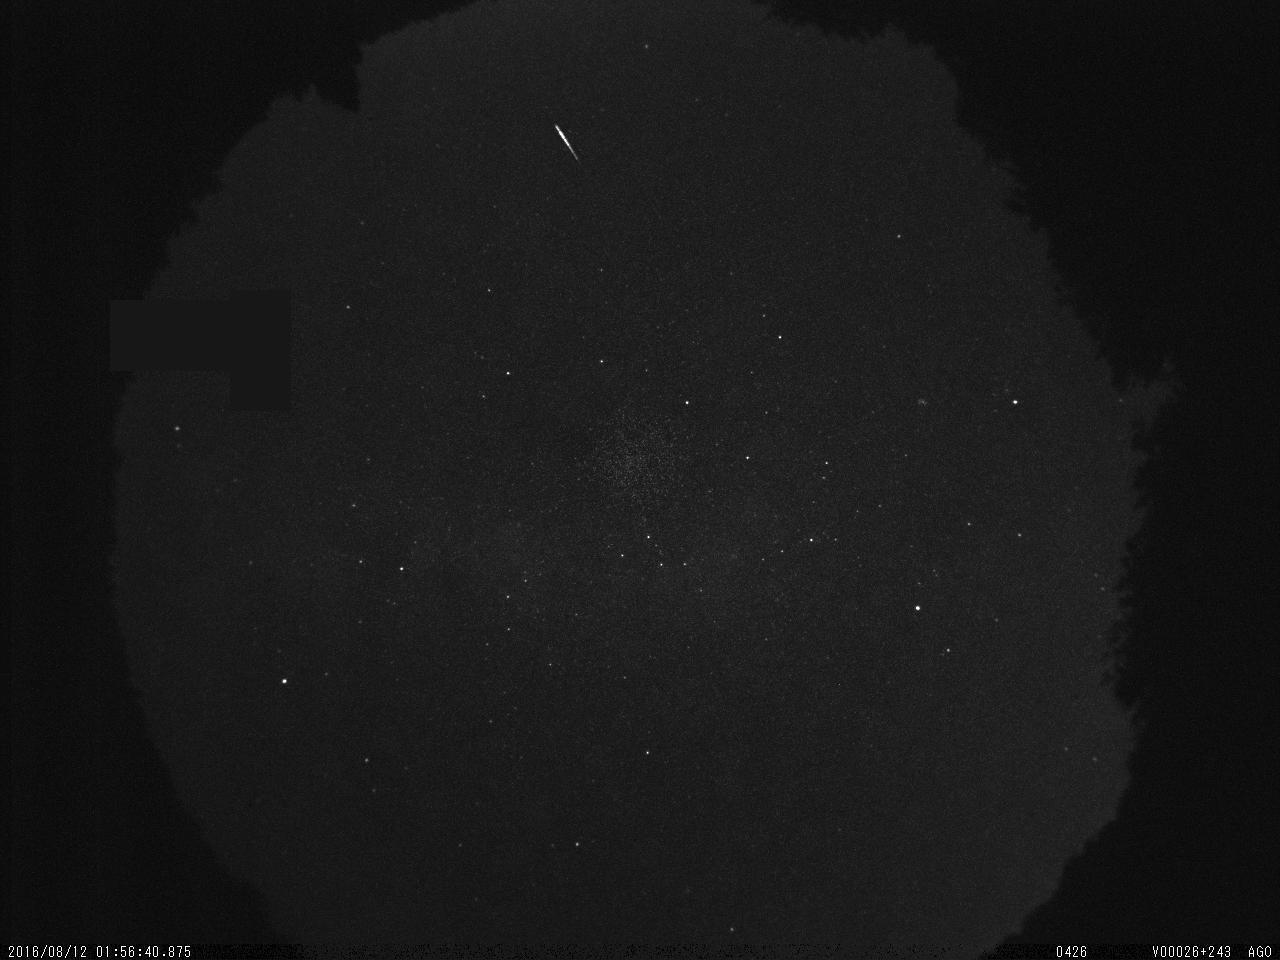meteor: (530, 102, 625, 178)
